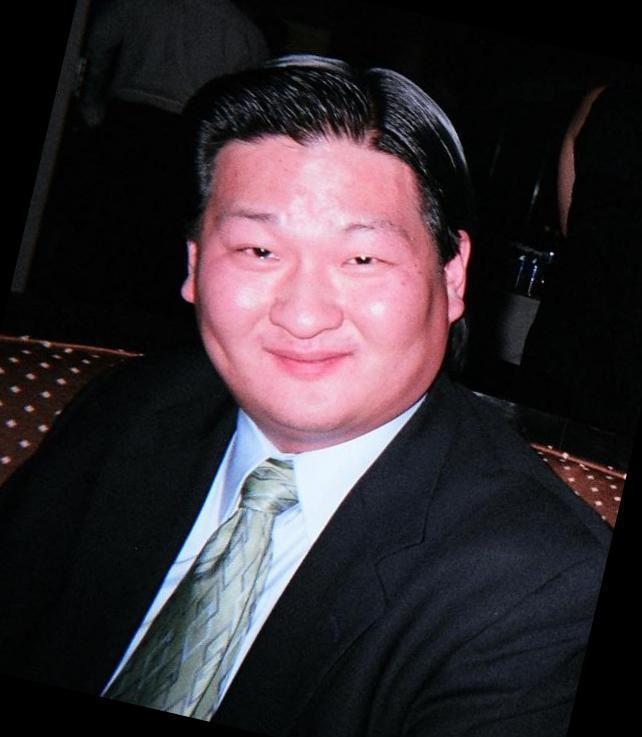Drunk: (207, 154, 438, 430)
